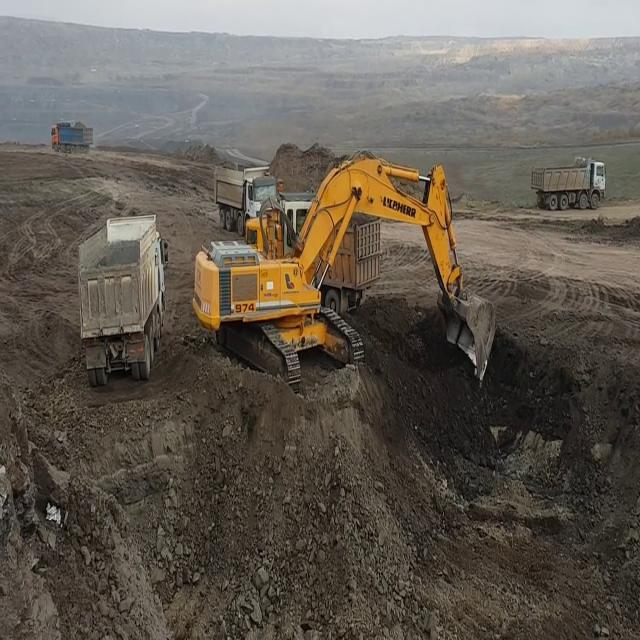excavator: (190, 152, 501, 395)
